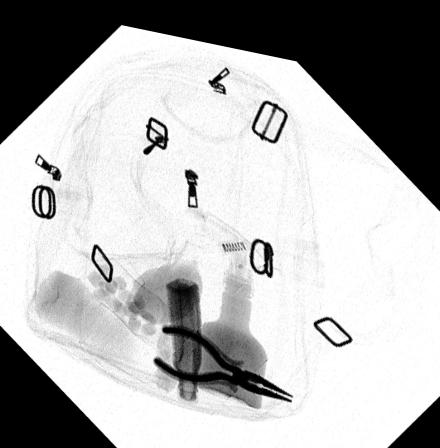Pliers: (151, 318, 292, 389)
